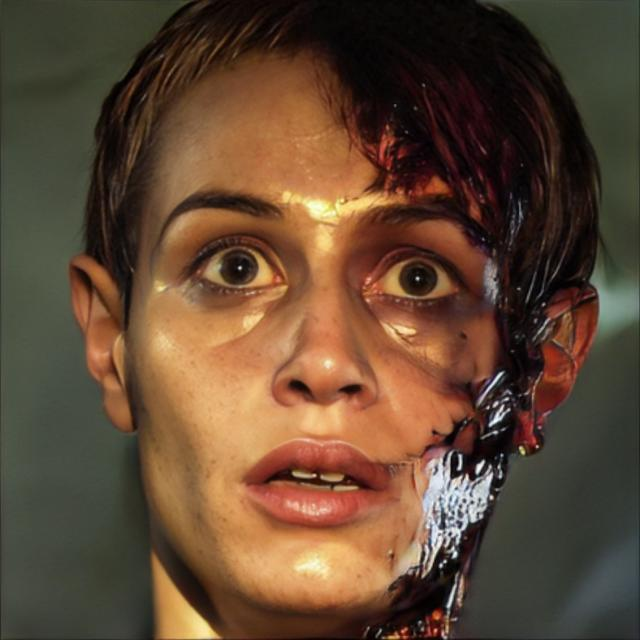fear: (128, 48, 509, 612)
